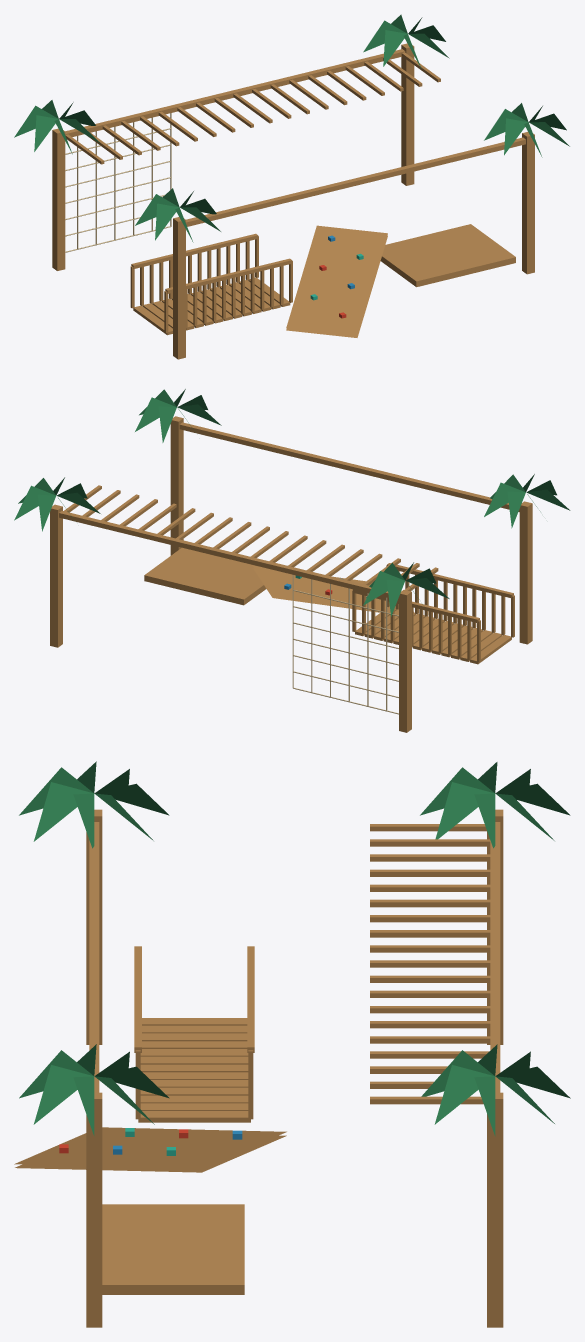
The picture shows the model from 3 angles, top to bottom: view 1: azimuth 30°, elevation 25°; view 2: azimuth 150°, elevation 25°; view 3: azimuth 270°, elevation 25°; orthographic projection. The views are drawn at different scales.
Parts seen in each view (by area): view 1: SW-A405; view 2: SW-A405; view 3: SW-A405.
Boxes of the visible parts, <box> form: SW-A405: <box>14,14,569,359</box>; SW-A405: <box>14,389,570,732</box>; SW-A405: <box>14,761,570,1327</box>.
Size of the model in its own units: 7.49 by 2.7 by 5.15.
